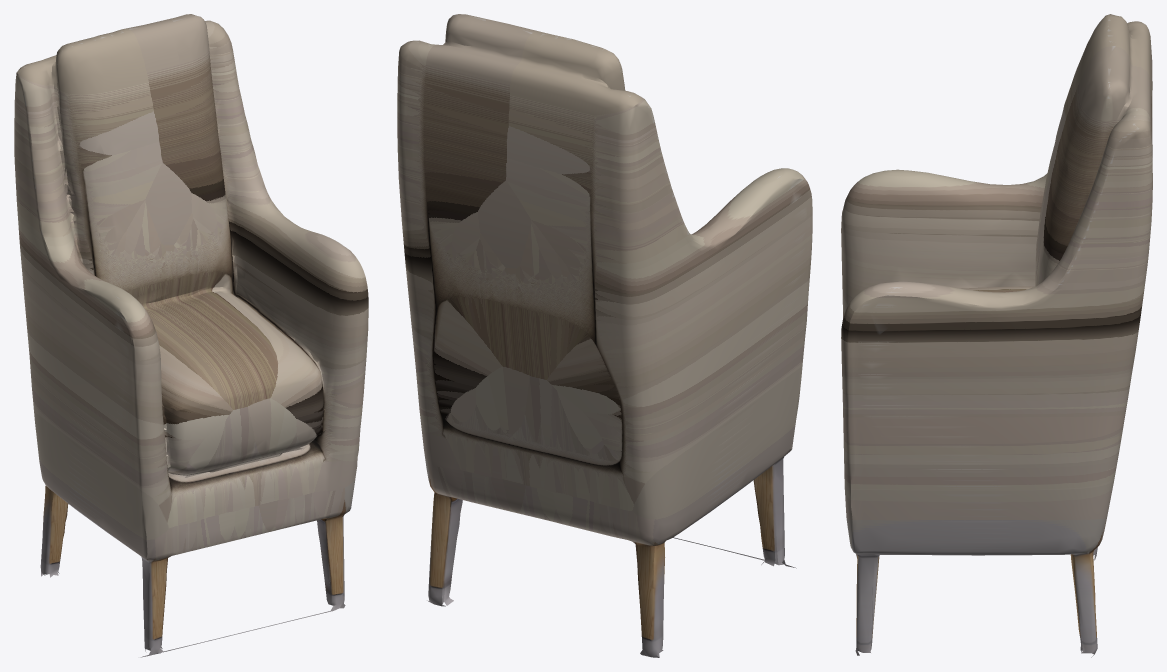
Rendered from armchair.glb.
3 renders of one model, left to right at view 1: azimuth 30°, elevation 25°; view 2: azimuth 150°, elevation 25°; view 3: azimuth 270°, elevation 25°, orthographic. The views are drawn at different scales.
Visible parts, largest first — view 1: Mesh_0; view 2: Mesh_0; view 3: Mesh_0.
Boxes of the visible parts, bbox=[...] form: Mesh_0: bbox=[14, 14, 368, 657]; Mesh_0: bbox=[397, 14, 812, 657]; Mesh_0: bbox=[841, 14, 1152, 657].
Bounding box in the file's own units: 0.356 × 0.7482 × 0.3774.
1 material, 1 textured.
